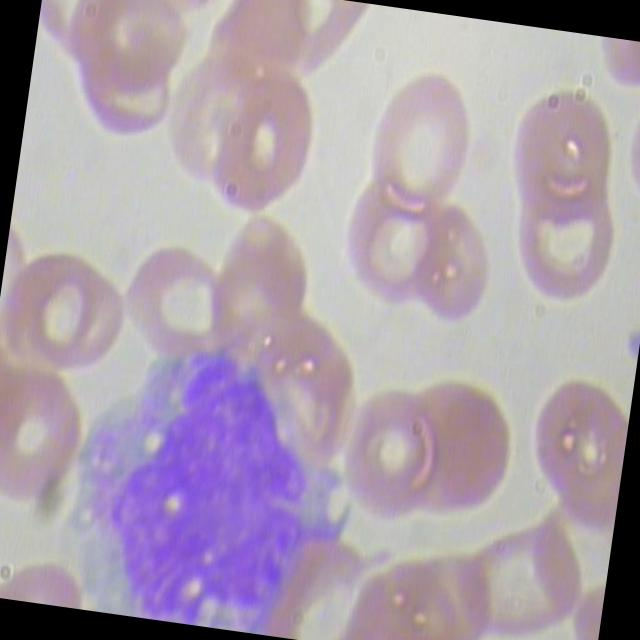RBC: (202, 63, 326, 230), (0, 246, 142, 385), (517, 370, 634, 536), (448, 510, 595, 640), (331, 170, 455, 322), (505, 84, 629, 234), (358, 70, 482, 220), (336, 391, 454, 536), (508, 174, 621, 318), (116, 238, 235, 374), (0, 352, 96, 519), (55, 0, 198, 105), (401, 201, 502, 330)
WBC: (56, 321, 374, 640)
